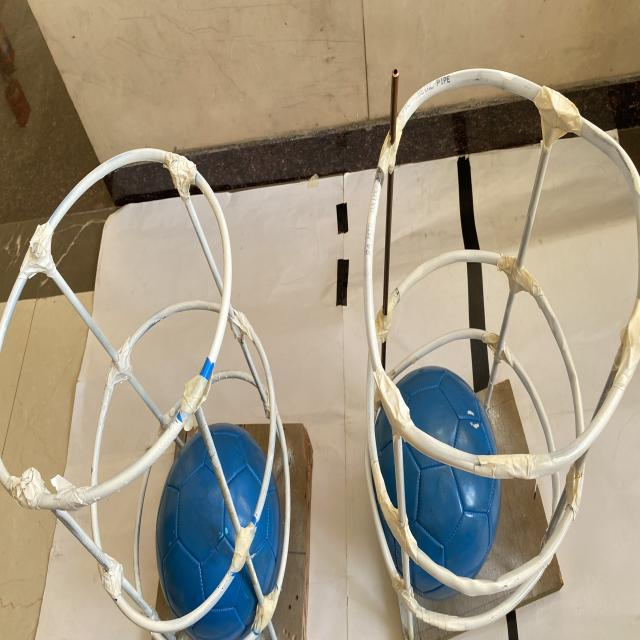blue_ball: (368, 367, 503, 586), (156, 421, 277, 635)
silo: (361, 63, 640, 637), (0, 136, 313, 640)
